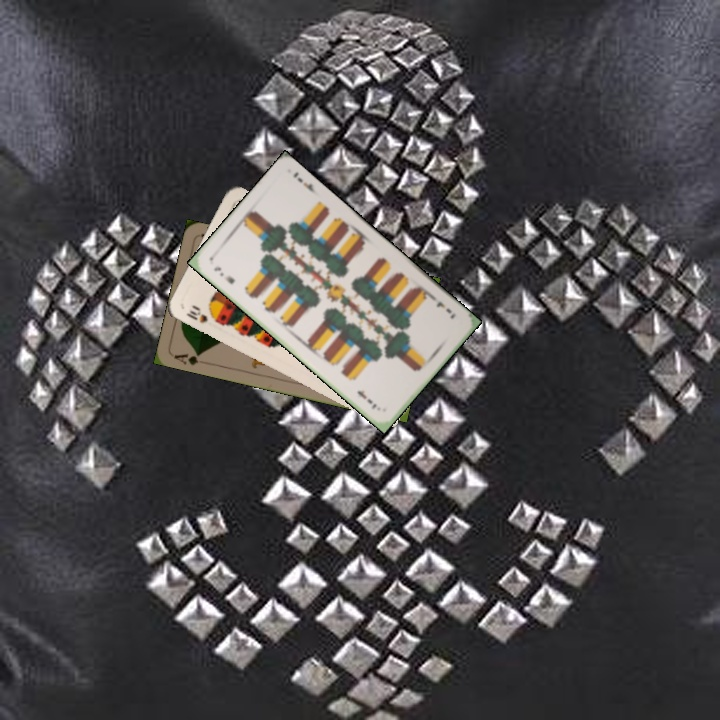E7: (210, 263, 237, 287), (432, 298, 459, 322)
GA: (170, 348, 204, 368)
S10: (182, 301, 220, 326)
